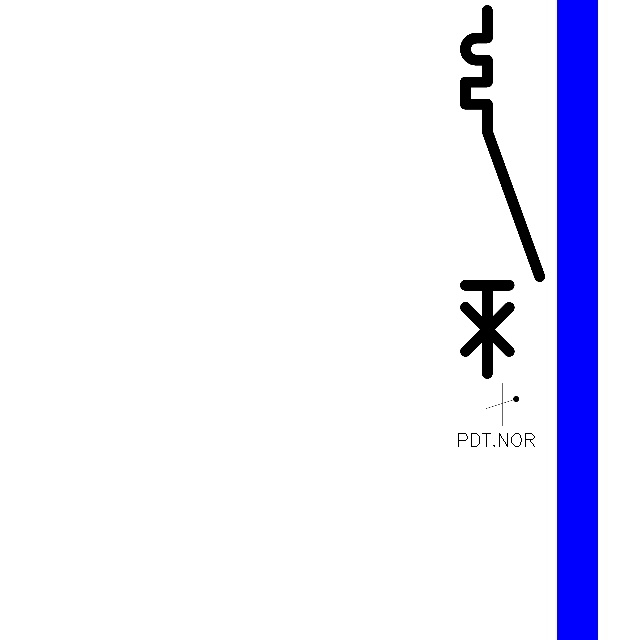interruptor_termomagnetico: (456, 1, 549, 383)
